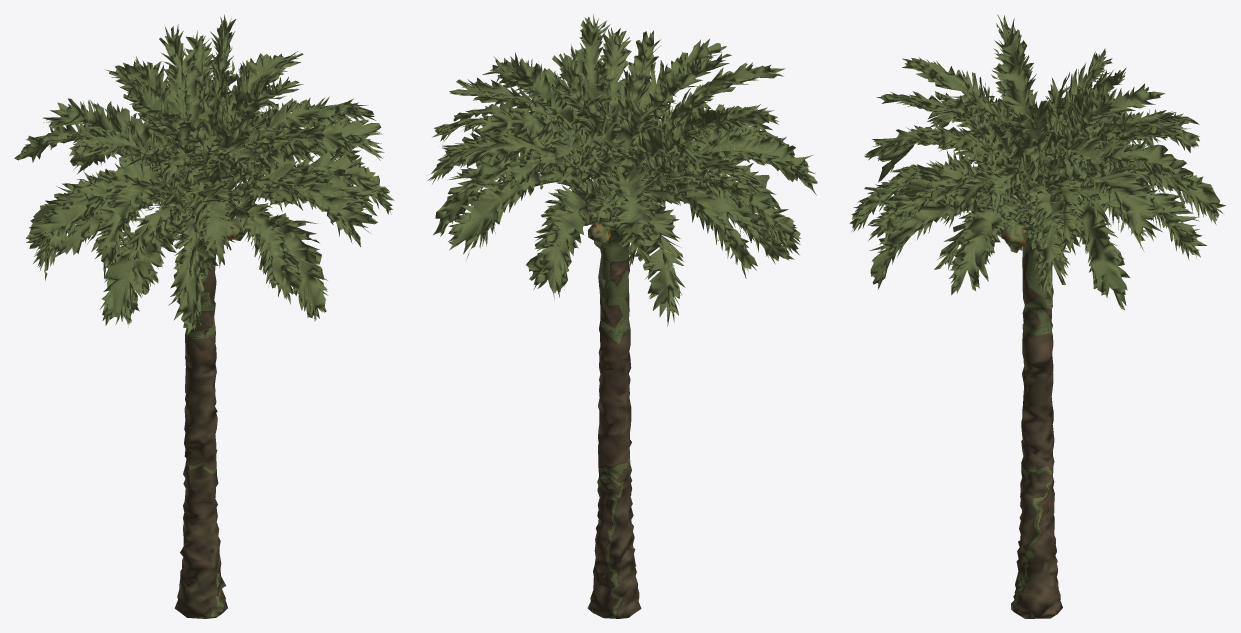
The model's file is palm2.glb.
The picture shows the model from 3 angles, left to right: view 1: azimuth 30°, elevation 25°; view 2: azimuth 150°, elevation 25°; view 3: azimuth 270°, elevation 25°; orthographic projection. The views are drawn at different scales.
Size of the model in its own units: 1.23 by 1.9 by 1.18.
Materials: 1 (1 with a texture image).
